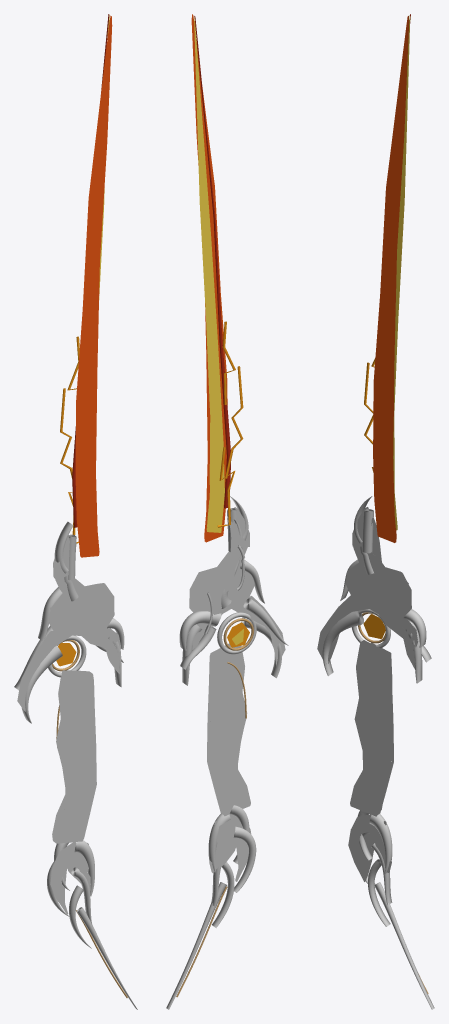
The model's file is blazing_brilliance.obj.
3 renders of one model, left to right at view 1: azimuth 30°, elevation 25°; view 2: azimuth 210°, elevation 25°; view 3: azimuth 330°, elevation 25°, orthographic.
Parts seen in each view (by area): view 1: blazing_brilliance; view 2: blazing_brilliance; view 3: blazing_brilliance.
Boxes of the visible parts, left/top/right/bottom form: blazing_brilliance: left=14, top=14, right=137, bottom=1009; blazing_brilliance: left=166, top=14, right=288, bottom=1009; blazing_brilliance: left=317, top=14, right=434, bottom=1009.
Size of the model in its own units: 0.311 by 2.52 by 0.0548.
